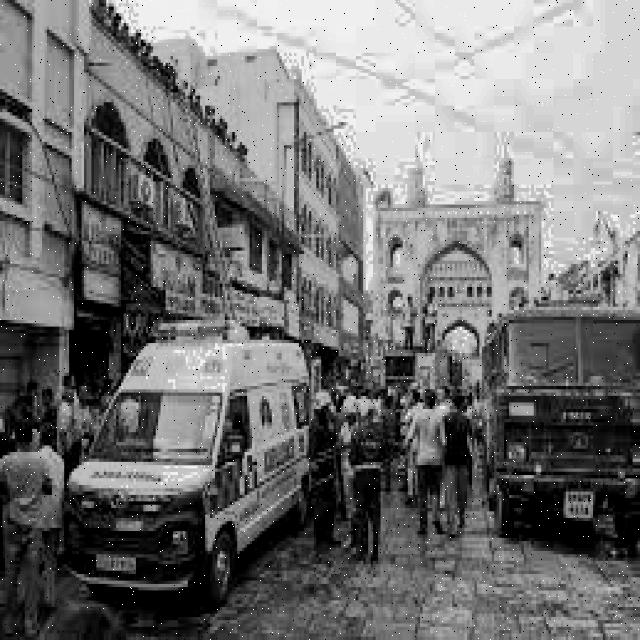Ambulance: (75, 313, 308, 604)
